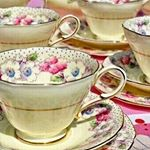cups: (1, 46, 128, 147), (1, 4, 81, 51)
